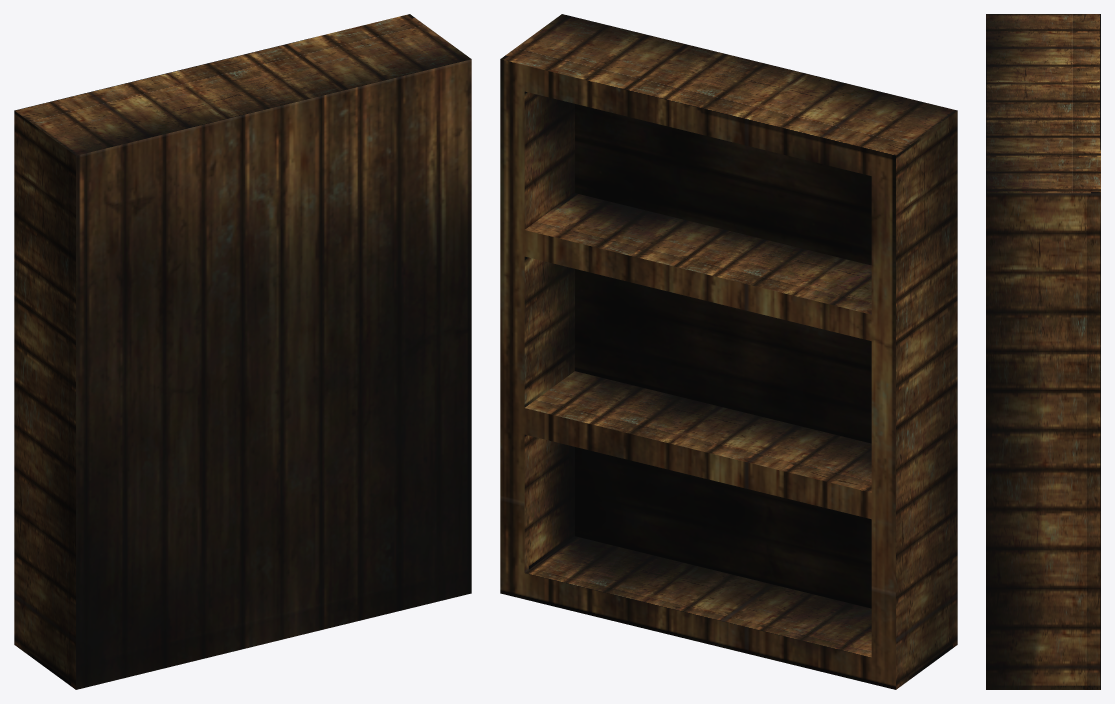
The model's file is шкаф.fbx.
3 renders of one model, left to right at view 1: azimuth 30°, elevation 25°; view 2: azimuth 150°, elevation 25°; view 3: azimuth 270°, elevation 25°, orthographic. The views are drawn at different scales.
Visible parts, largest first — view 1: Cube.001; view 2: Cube.001; view 3: Cube.001.
Boxes of the visible parts, box(x1,y1,x2,y2) form: Cube.001: box(14, 14, 471, 689); Cube.001: box(500, 14, 957, 689); Cube.001: box(986, 14, 1100, 689).
Size of the model in its own units: 179 by 232 by 48.58.
